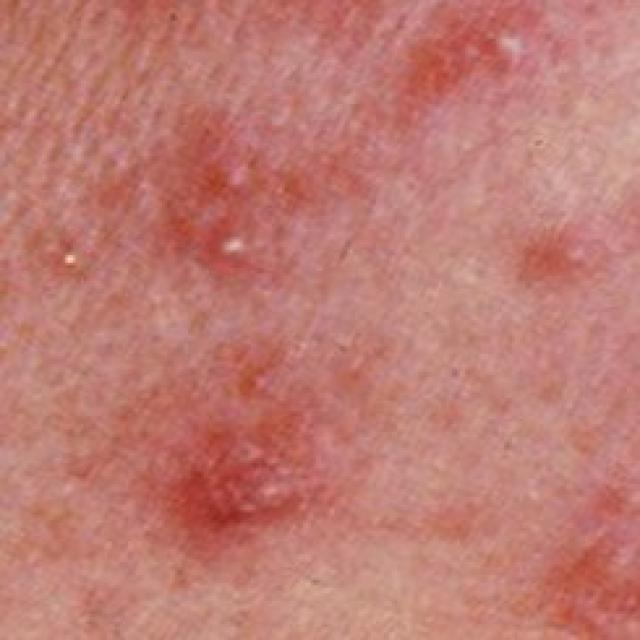acne: (141, 372, 376, 544), (480, 172, 638, 328), (188, 120, 316, 296)
